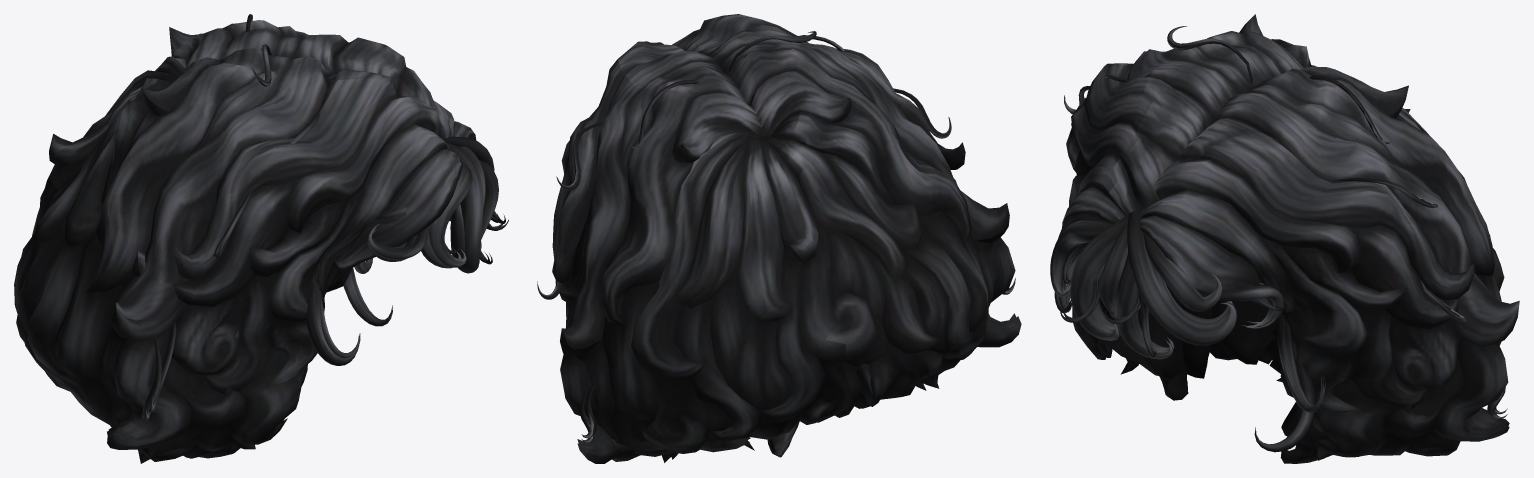
The model's file is Ondulado_0.glb.
3 views of the same model, side by side, from view 1: azimuth 30°, elevation 25°; view 2: azimuth 150°, elevation 25°; view 3: azimuth 270°, elevation 25° (orthographic). The views are drawn at different scales.
Parts seen in each view (by area): view 1: Bonnie_Hair_mesh; view 2: Bonnie_Hair_mesh; view 3: Bonnie_Hair_mesh.
Boxes of the visible parts, x1,y1,x2,y2 form: Bonnie_Hair_mesh: (14,14,508,463); Bonnie_Hair_mesh: (537,14,1021,463); Bonnie_Hair_mesh: (1050,14,1519,463).
Size of the model in its own units: 0.0476 by 0.0415 by 0.0431.
1 material, 1 textured.
